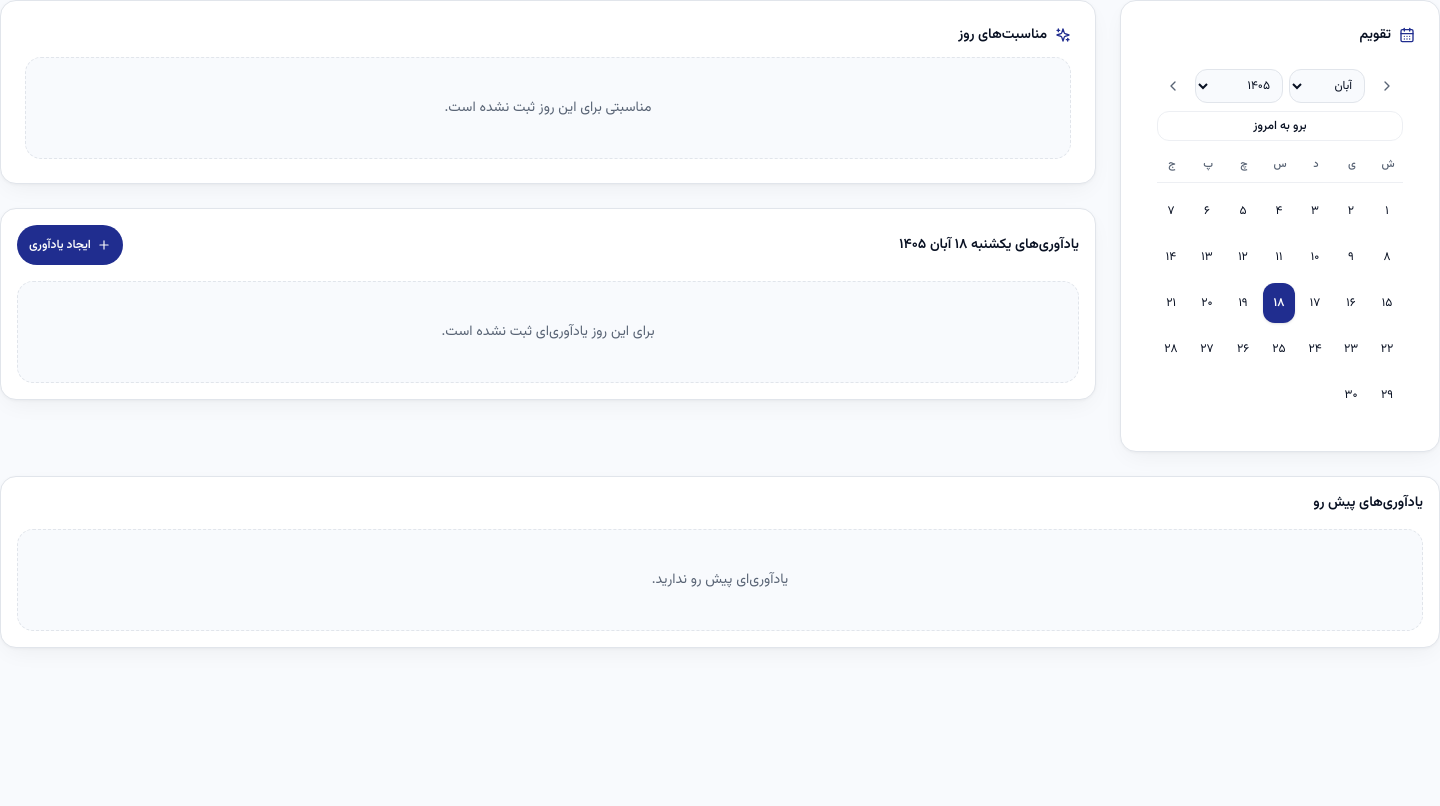
Test: CoreCalendarView › reminder creation › refuses to submit without a title
The image size is (1440, 806).
Click the button with test id "reminder-create-toggle" at (70, 245), box [17, 225, 123, 265]
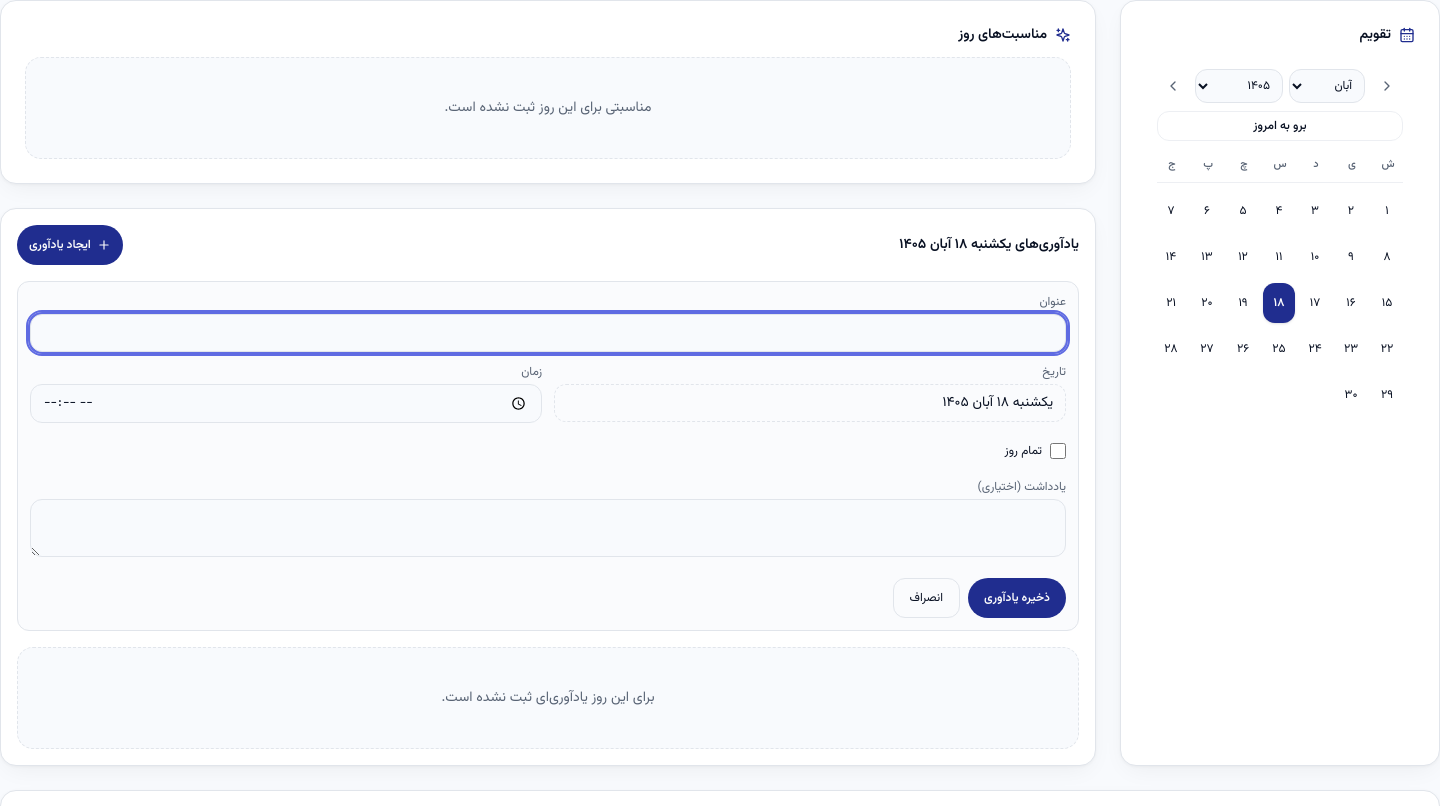
Type "10:00" into the time field with test id "reminder-time-input" at (286, 403), box [30, 384, 542, 423]
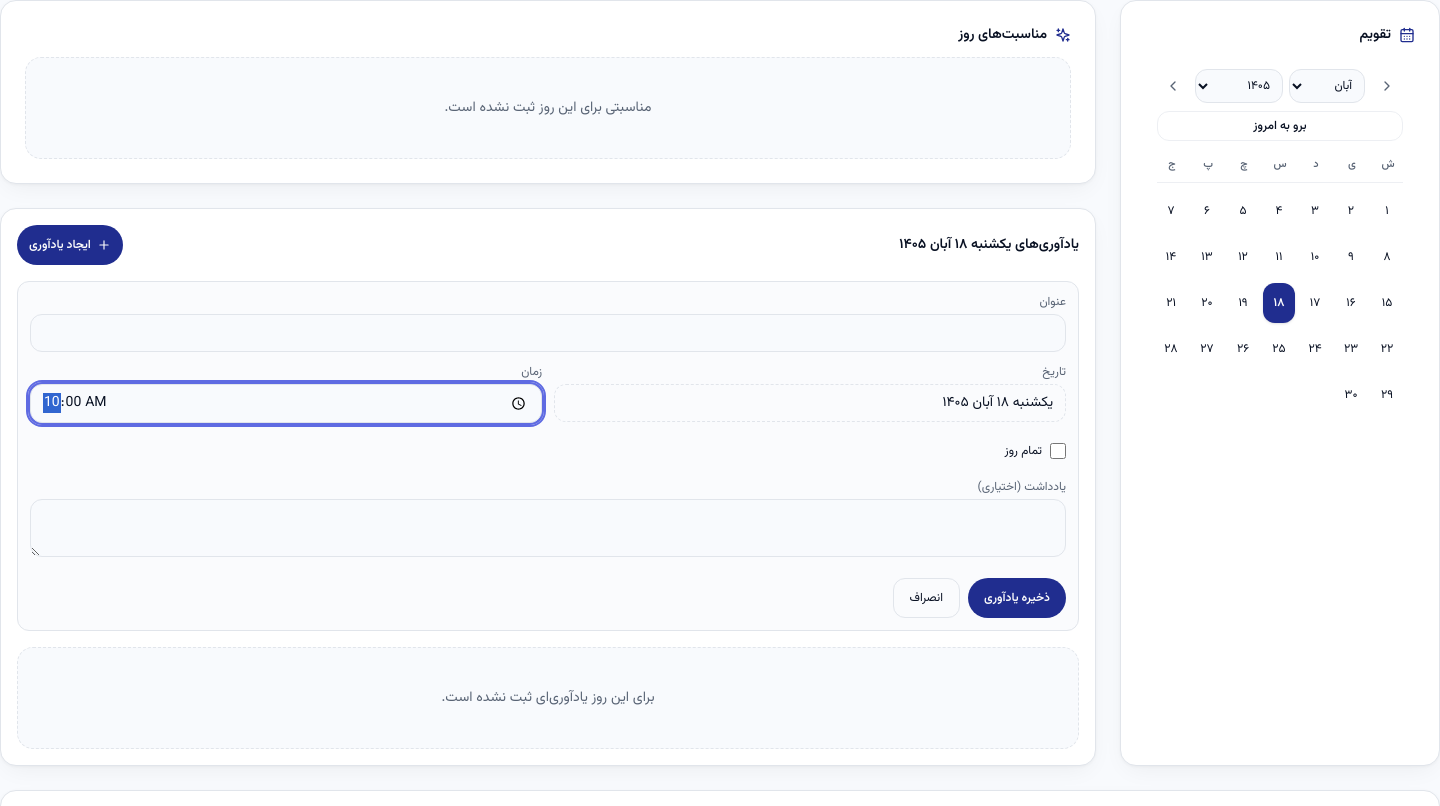
Click the button with test id "reminder-submit" at (1017, 598), box [968, 578, 1066, 618]
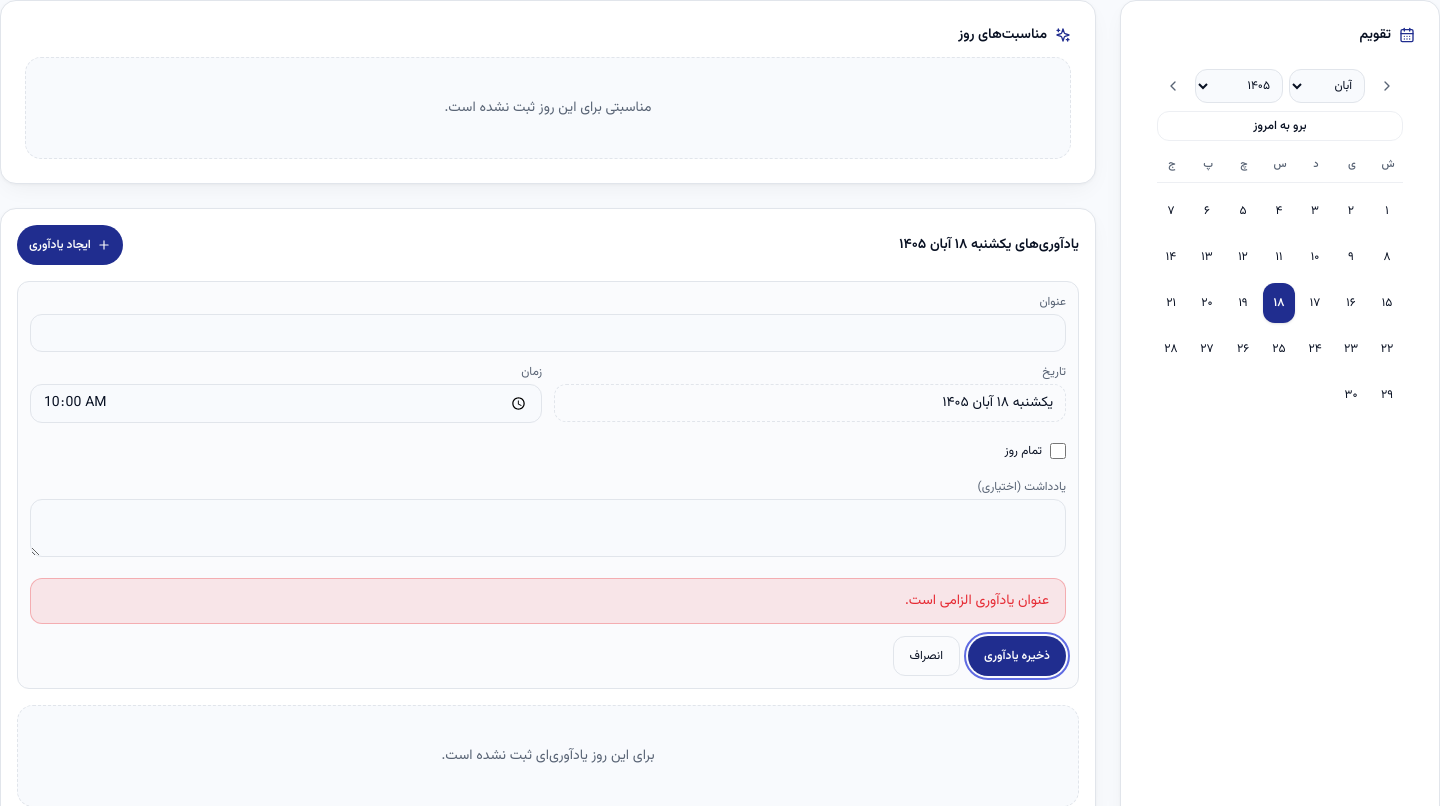
Expected: the element with test id "reminder-form-error" reads "عنوان یادآوری الزامی است.", [905, 590, 1049, 612]
